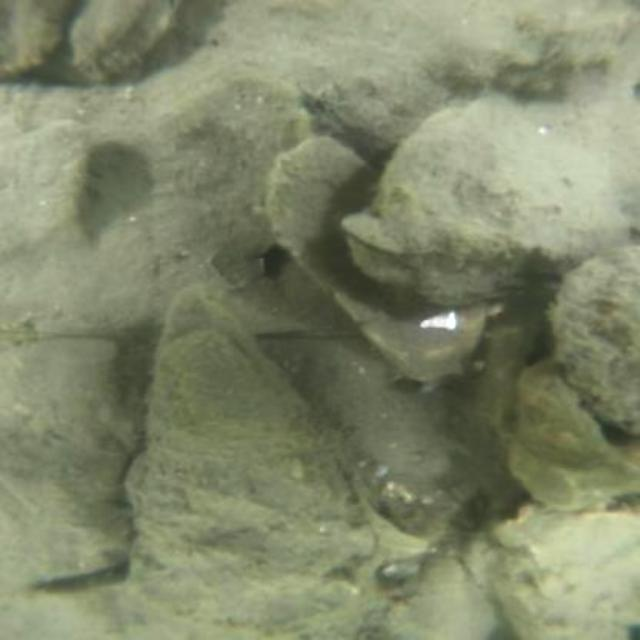Oyster-Closed: (126, 293, 370, 632), (156, 2, 630, 142), (261, 134, 488, 385), (356, 101, 628, 301), (0, 335, 134, 591), (471, 509, 638, 633), (552, 249, 638, 435), (515, 372, 634, 505), (360, 555, 496, 636), (70, 2, 199, 81), (0, 0, 74, 75)
